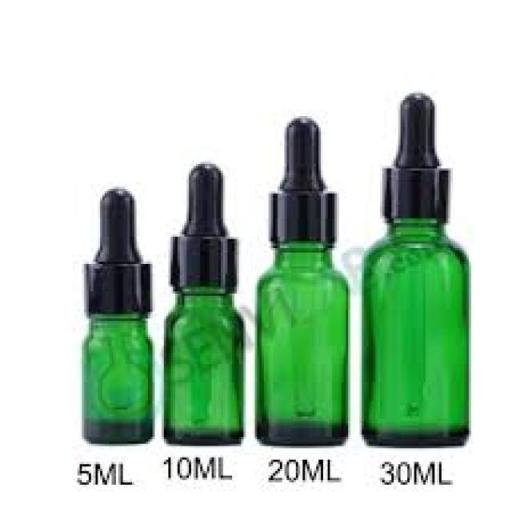glass: (362, 100, 469, 445), (256, 125, 352, 445), (164, 214, 252, 450), (81, 188, 156, 447)
